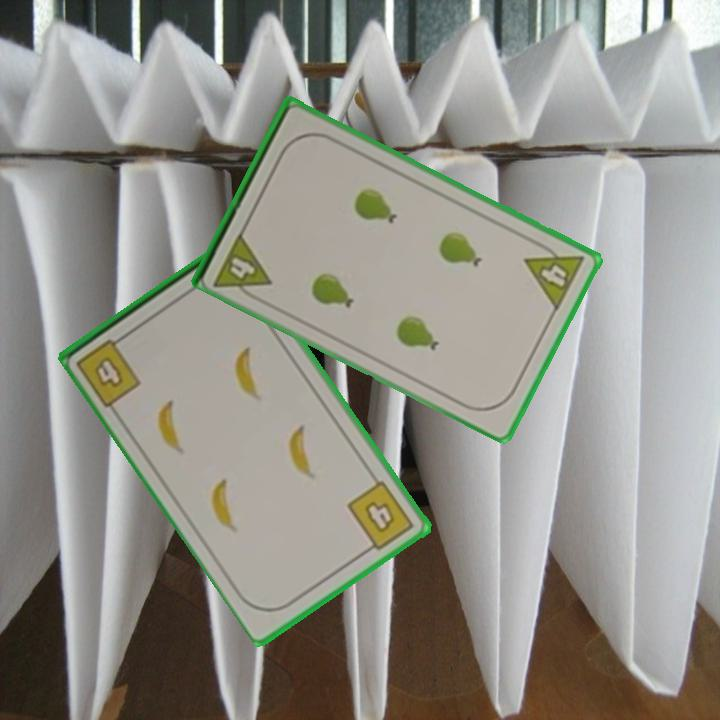4b: (343, 477, 417, 557), (72, 330, 145, 410)
4p: (521, 236, 588, 313), (210, 227, 274, 305)
